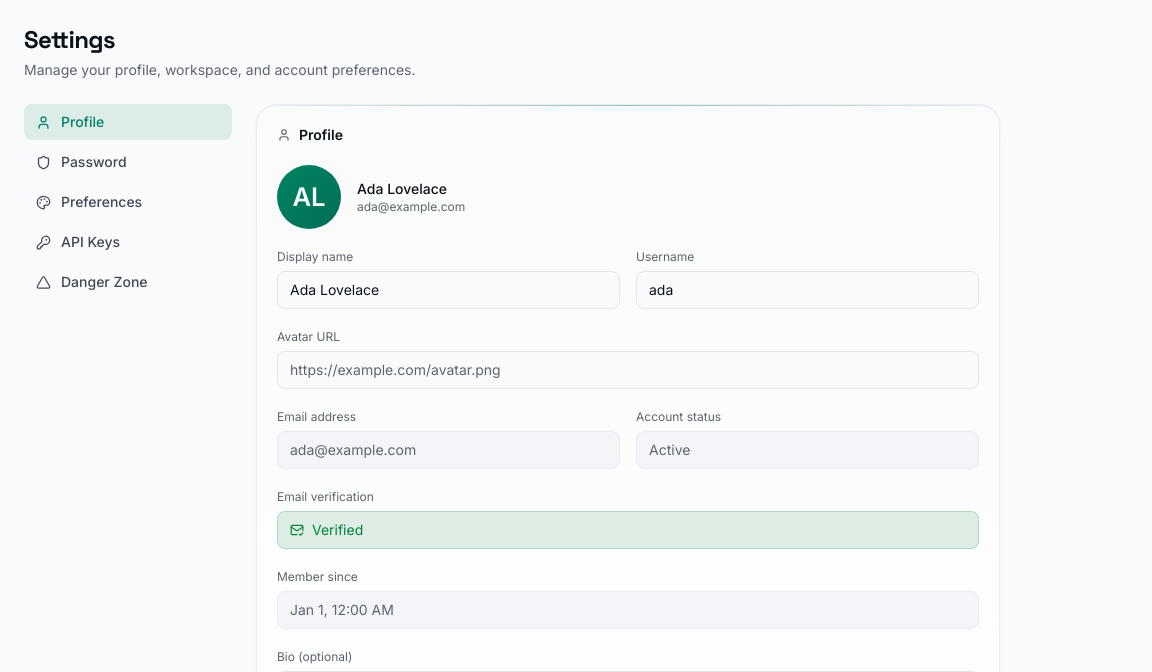
Test: Settings — EP-22.2 backend integration › blocks deleting the personal workspace
Click the tab "Danger Zone" at (128, 282), box [24,264,232,300]
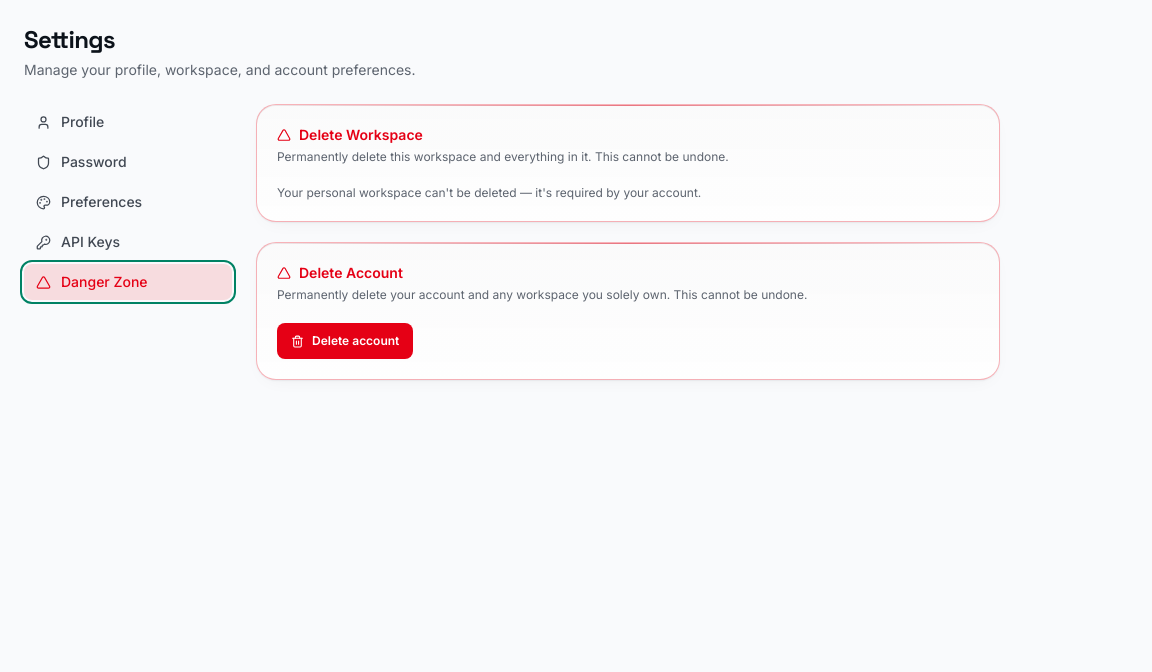
Result: the text "personal workspace can't be deleted" is shown at [277,185,701,200]
